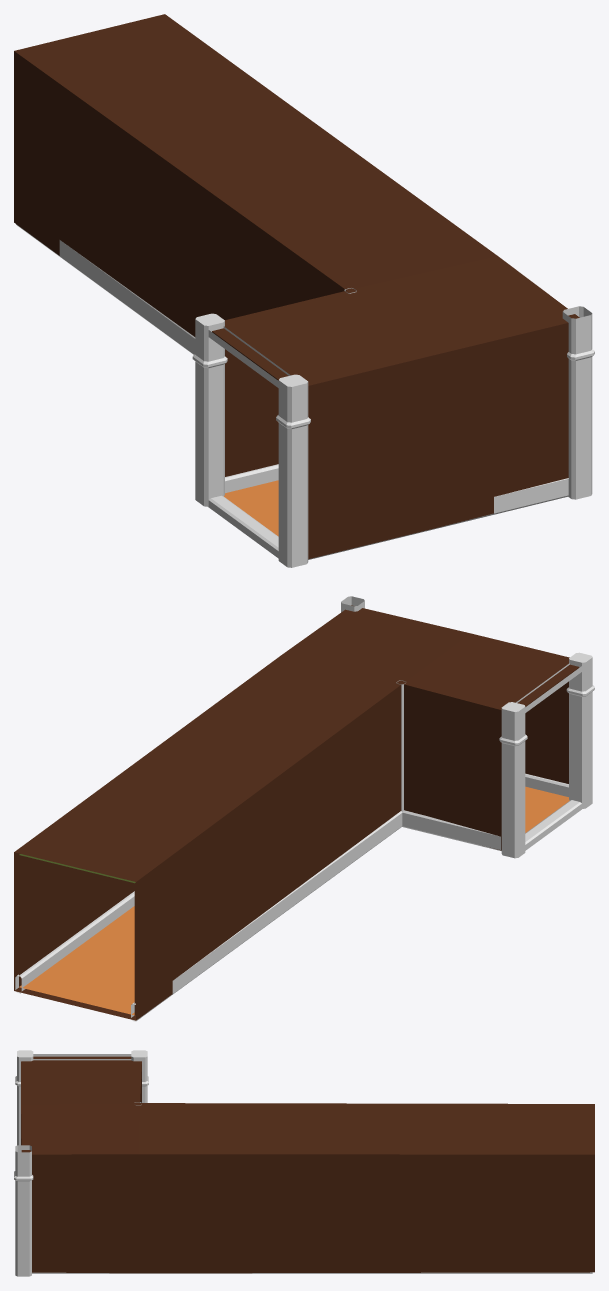
The model's file is Corridor2.fbx.
The picture shows the model from 3 angles, top to bottom: view 1: azimuth 30°, elevation 25°; view 2: azimuth 150°, elevation 25°; view 3: azimuth 270°, elevation 25°; orthographic projection. The views are drawn at different scales.
Visible parts, largest first — view 1: GangTestU.001, Uebergang.003, EdgePillar.004, LongRailU.003, ShortRailM.004, ShortRailS.004; view 2: GangTestU.001, Uebergang.003, LongRailU.003, ShortRailS.004, ShortRailM.004; view 3: GangTestU.001, EdgePillar.004, Uebergang.003, LongRailU.003.
Part boxes in pixels (x1,y1,x2,y2): GangTestU.001: [14, 14, 579, 559]; Uebergang.003: [192, 313, 310, 567]; EdgePillar.004: [562, 306, 594, 499]; LongRailU.003: [16, 224, 195, 354]; ShortRailM.004: [308, 478, 568, 559]; ShortRailS.004: [225, 464, 278, 493]; GangTestU.001: [14, 605, 579, 1020]; Uebergang.003: [499, 652, 594, 858]; LongRailU.003: [15, 811, 402, 1021]; ShortRailS.004: [402, 810, 501, 850]; ShortRailM.004: [525, 773, 568, 796]; GangTestU.001: [21, 1056, 594, 1273]; EdgePillar.004: [14, 1145, 33, 1276]; Uebergang.003: [15, 1050, 148, 1145]; LongRailU.003: [32, 1272, 592, 1273].
Size of the model in its own units: 467 by 263 by 1112.
